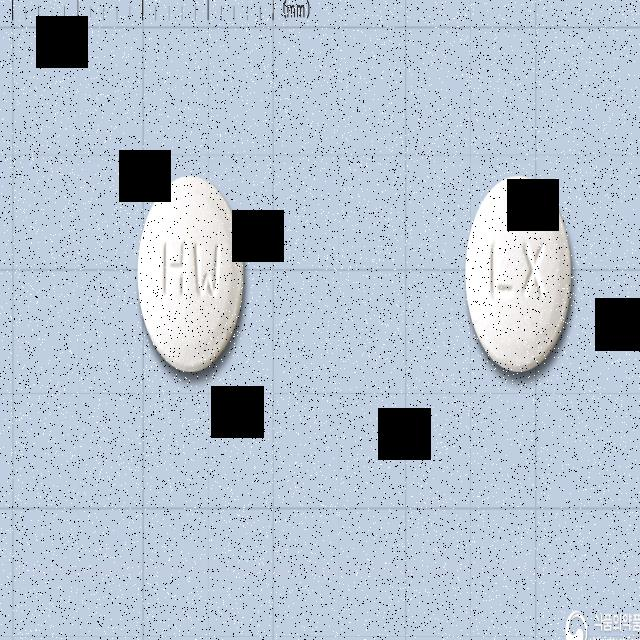Max-xacin: (464, 174, 572, 374), (138, 174, 244, 373)
